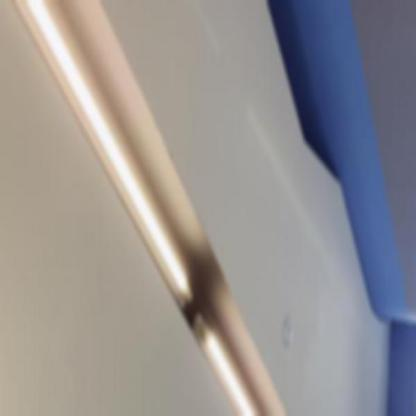light_on: (0, 0, 200, 313), (190, 304, 289, 415)
